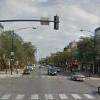Traffic light: (47, 8, 67, 43)
